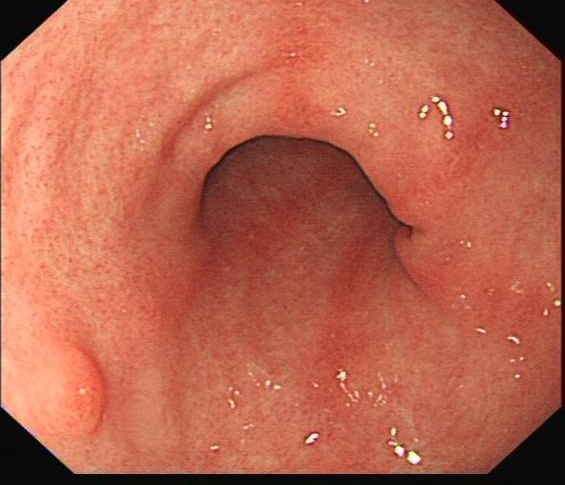Polyp: (38, 344, 107, 435)
